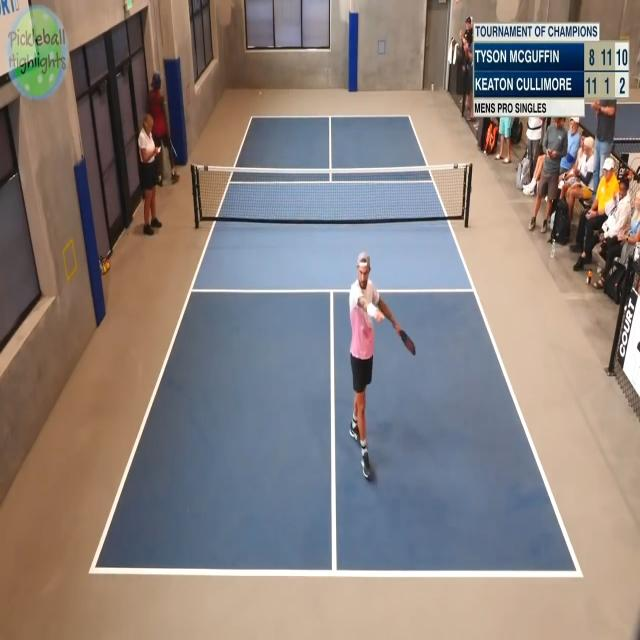Court: (95, 117, 582, 576)
ball: (254, 76, 270, 105)
